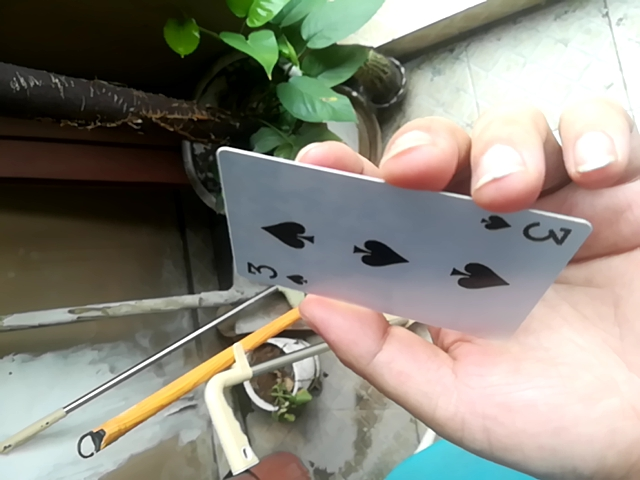ht 3: (221, 148, 599, 336)
